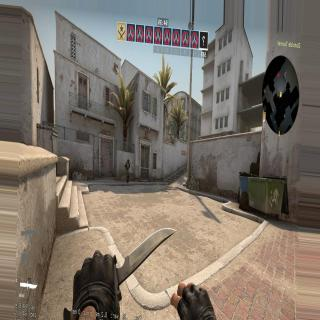CT-Body: (124, 157, 132, 186)
CT-Head: (127, 158, 130, 164)
